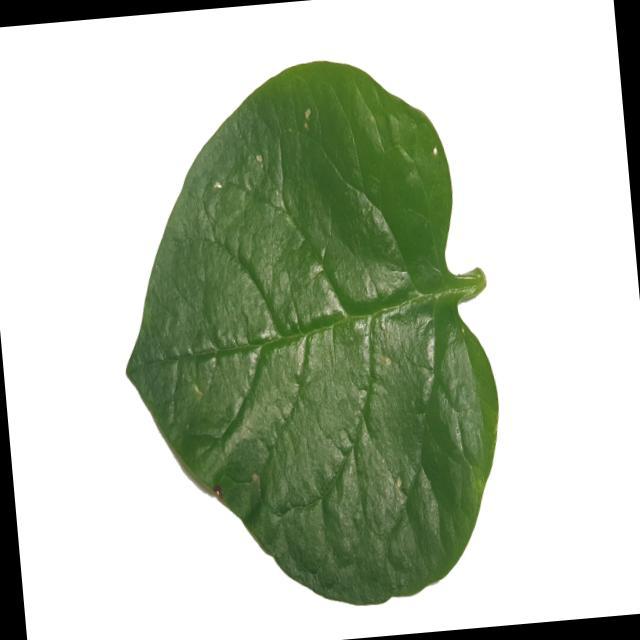Medicinal-Basale: (100, 45, 517, 624)
